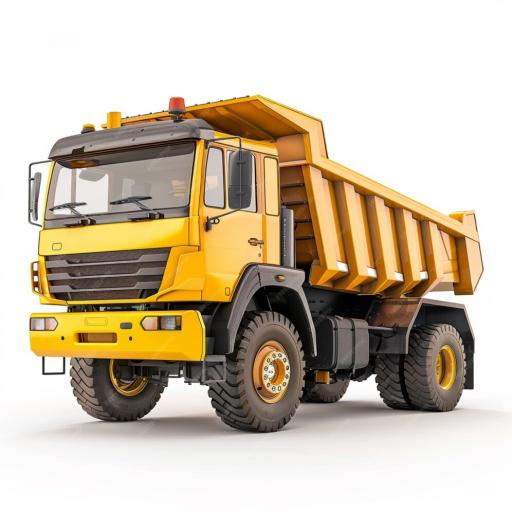truck: (26, 93, 484, 433)
